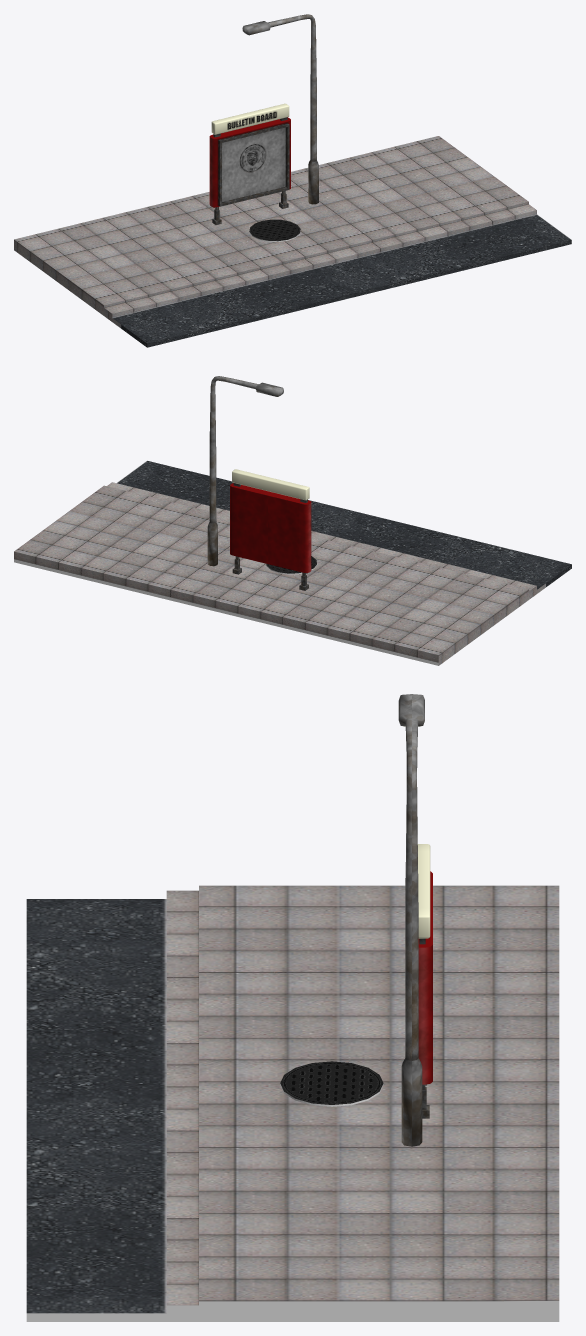
File: MainMenuScene.fbx
3 renders of one model, top to bottom at view 1: azimuth 30°, elevation 25°; view 2: azimuth 150°, elevation 25°; view 3: azimuth 270°, elevation 25°, orthographic. The views are drawn at different scales.
Visible parts, largest first — view 1: Cube.003, Cube, Cube.001, Cube.002; view 2: Cube.003, Cube, Cube.001; view 3: Cube.003, Cube.001, Cube.002, Cube.
Boxes of the visible parts, <box> form: Cube.003: <box>14,136,571,347</box>; Cube: <box>209,103,290,224</box>; Cube.001: <box>242,14,318,204</box>; Cube.002: <box>249,219,300,241</box>; Cube.003: <box>14,460,571,665</box>; Cube: <box>230,469,311,590</box>; Cube.001: <box>207,376,283,566</box>; Cube.003: <box>26,885,559,1321</box>; Cube.001: <box>398,694,424,1146</box>; Cube.002: <box>280,1061,383,1106</box>; Cube: <box>405,844,432,1118</box>.
Size of the model in its own units: 1076 by 489 by 584.
